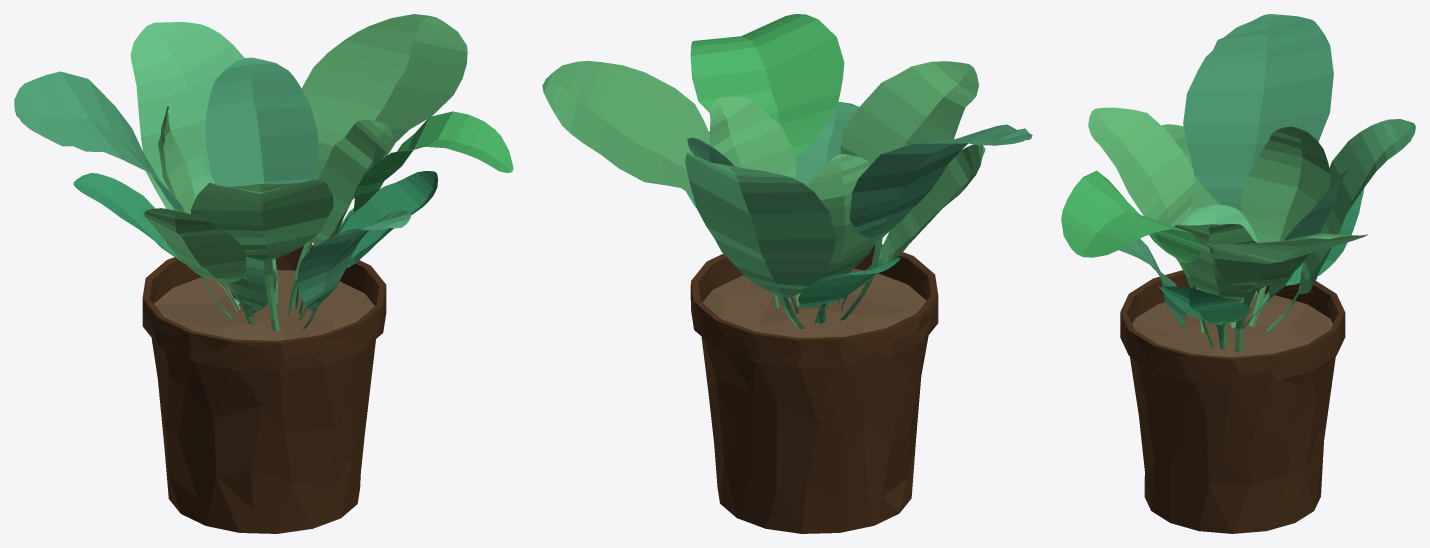
Rendered from Low+Poly+Stylized+Pot+Plant.fbx.
3 views of the same model, side by side, from view 1: azimuth 30°, elevation 25°; view 2: azimuth 150°, elevation 25°; view 3: azimuth 270°, elevation 25° (orthographic). The views are drawn at different scales.
Visible parts, largest first — view 1: Prostokąt.001; view 2: Prostokąt.001; view 3: Prostokąt.001.
Boxes of the visible parts, x1=… form: Prostokąt.001: x1=14, y1=14, x2=513, y2=533; Prostokąt.001: x1=542, y1=14, x2=1032, y2=533; Prostokąt.001: x1=1061, y1=14, x2=1415, y2=533.
Bounding box in the file's own units: 536 × 486 × 402.
